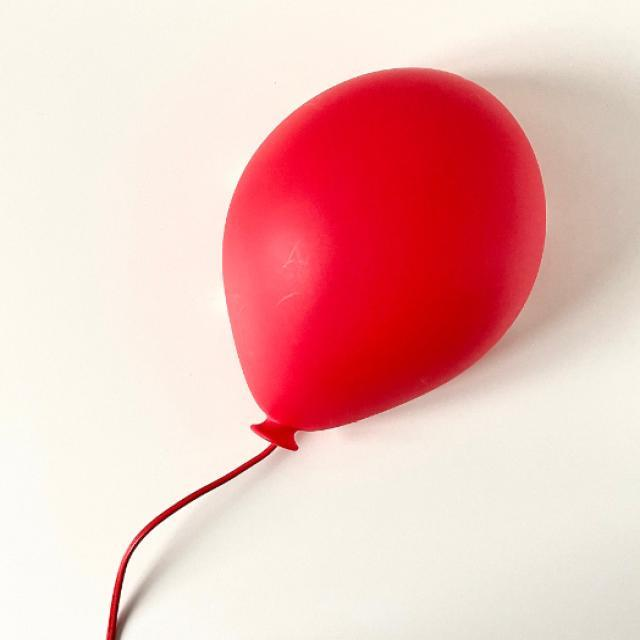red: (218, 64, 551, 459)
